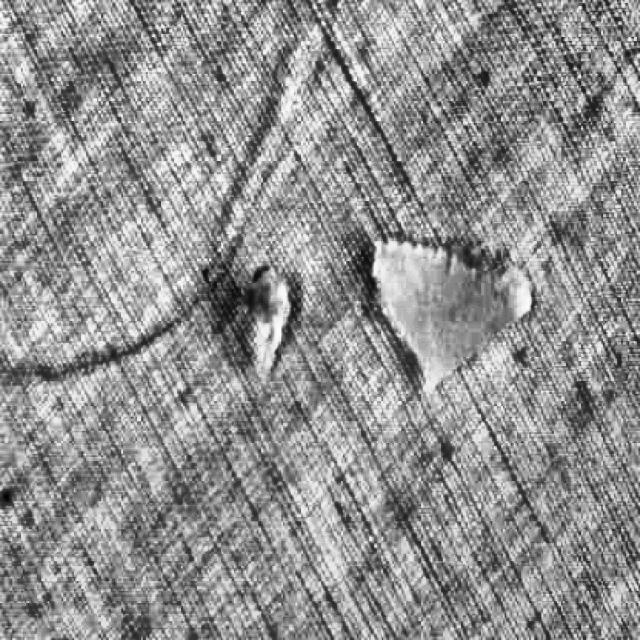objects: (358, 231, 543, 415), (238, 260, 318, 398)
thread_error: (192, 2, 339, 256), (24, 257, 235, 386)
